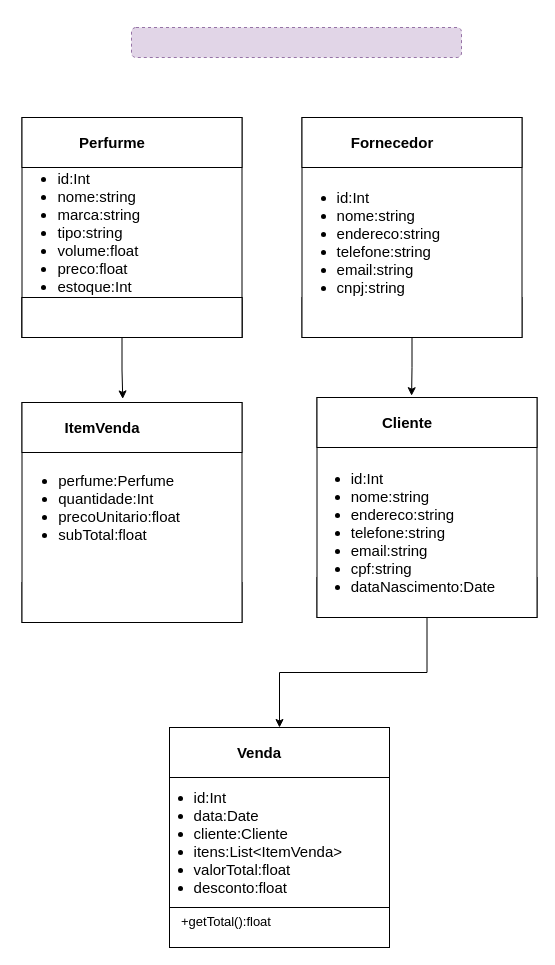
This 555x965 diagram has some shape labels left out. The centre of each missing label's shape, as x and y in pixels:
+getTipo(): String +setTipo(tipo: String): void: [131,317]
Classes Projeto Perfumes: [296,42]
